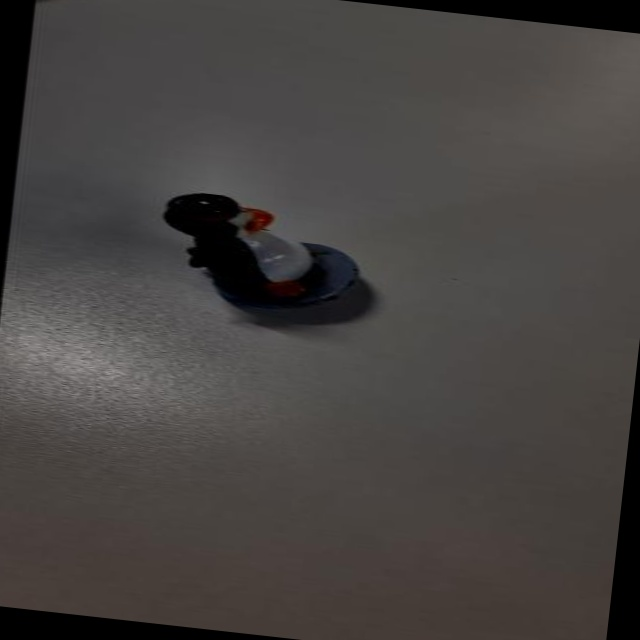Penguin: (144, 188, 390, 328)
